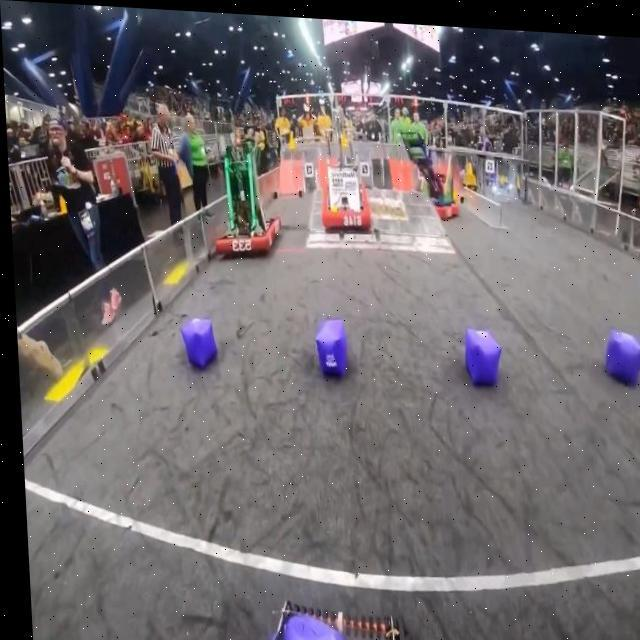robot: (215, 140, 281, 257), (321, 104, 370, 231), (398, 124, 459, 220)
